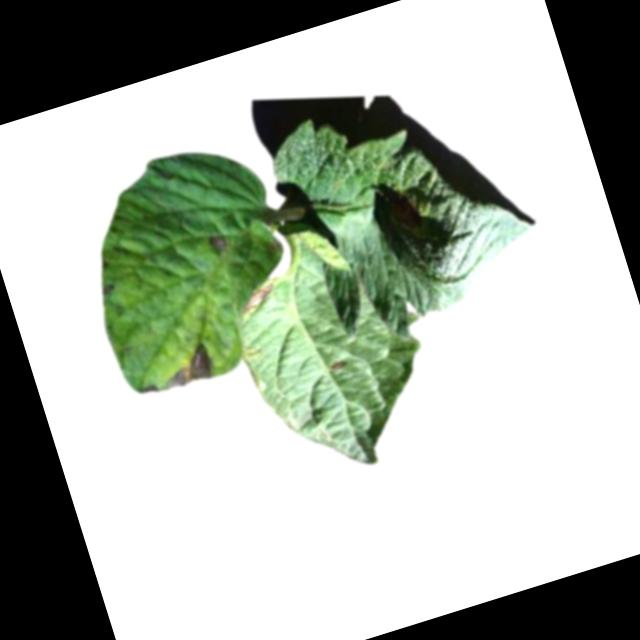Early_blight: (132, 340, 215, 400), (233, 280, 281, 321), (206, 232, 231, 260), (328, 357, 349, 374)
